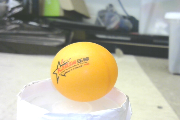PingPongBall: (50, 43, 118, 101)
